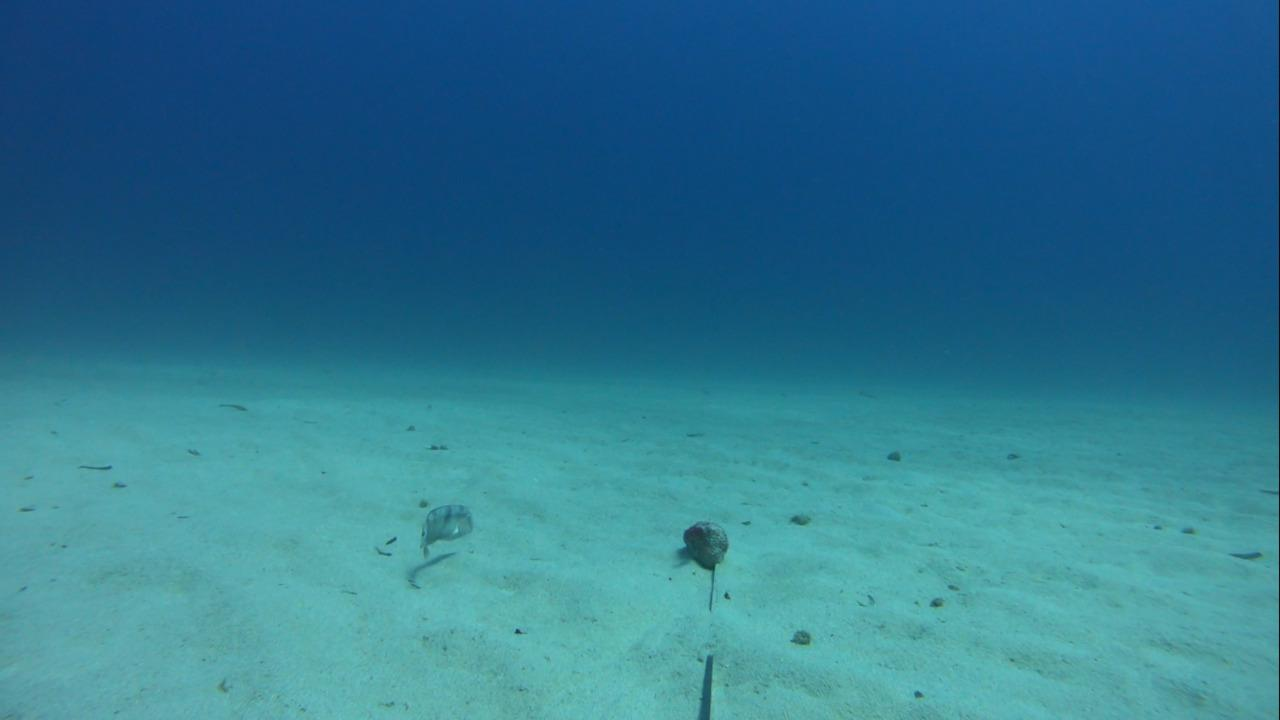raor: (416, 499, 477, 559)
